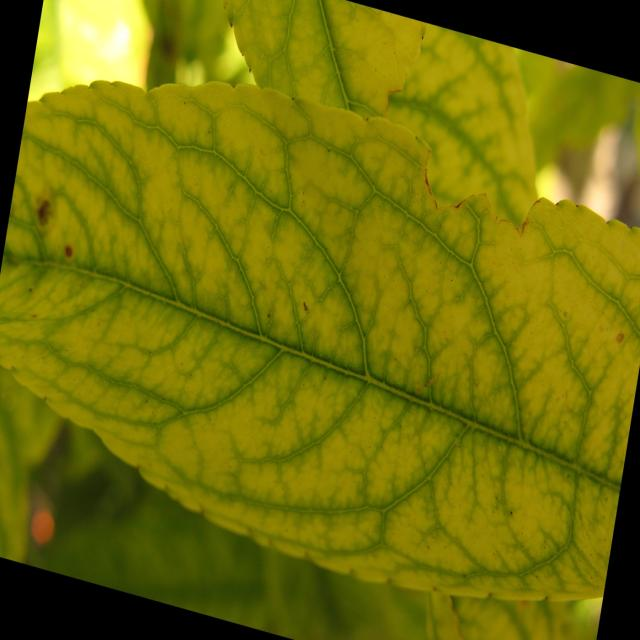Chlorosis: (8, 62, 640, 592)
